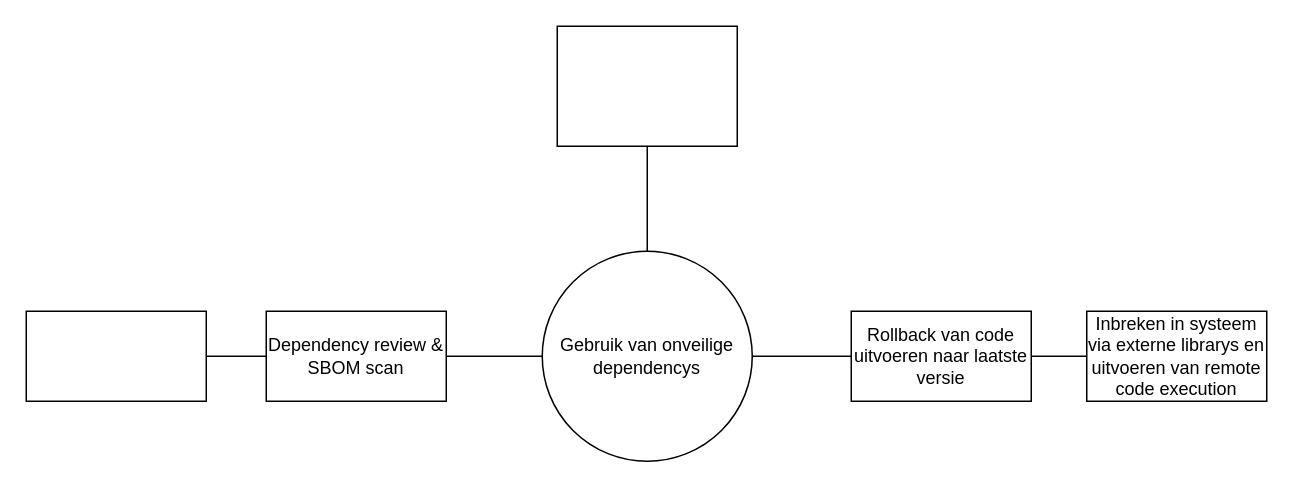
Image size: 1293x488. Some labels were removed from this diagram. Each missing label, with the centre of its shape:
Gebruik van externe librarys: (x=646, y=85)
Ontwikkelaar voegt library toe met onbekende kwatbaarheden: (x=115, y=355)
